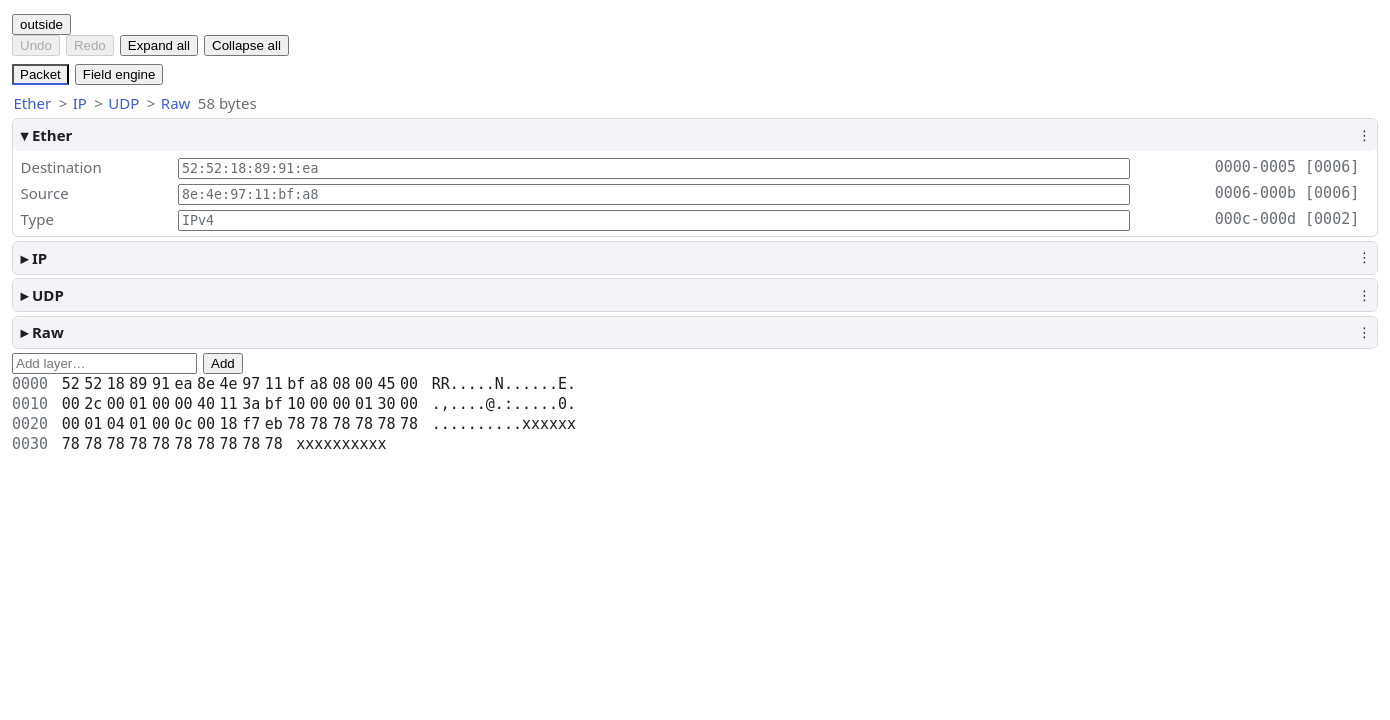
Test: PacketEditor › a rejected value stays in the field, red, with the message
This screenshot has width=1390, height=720.
Expected: the element with class "layer-list" is shown, [12,118,1378,349]
Click the button "▸ IP" at (24,258), box [13,242,1352,274]
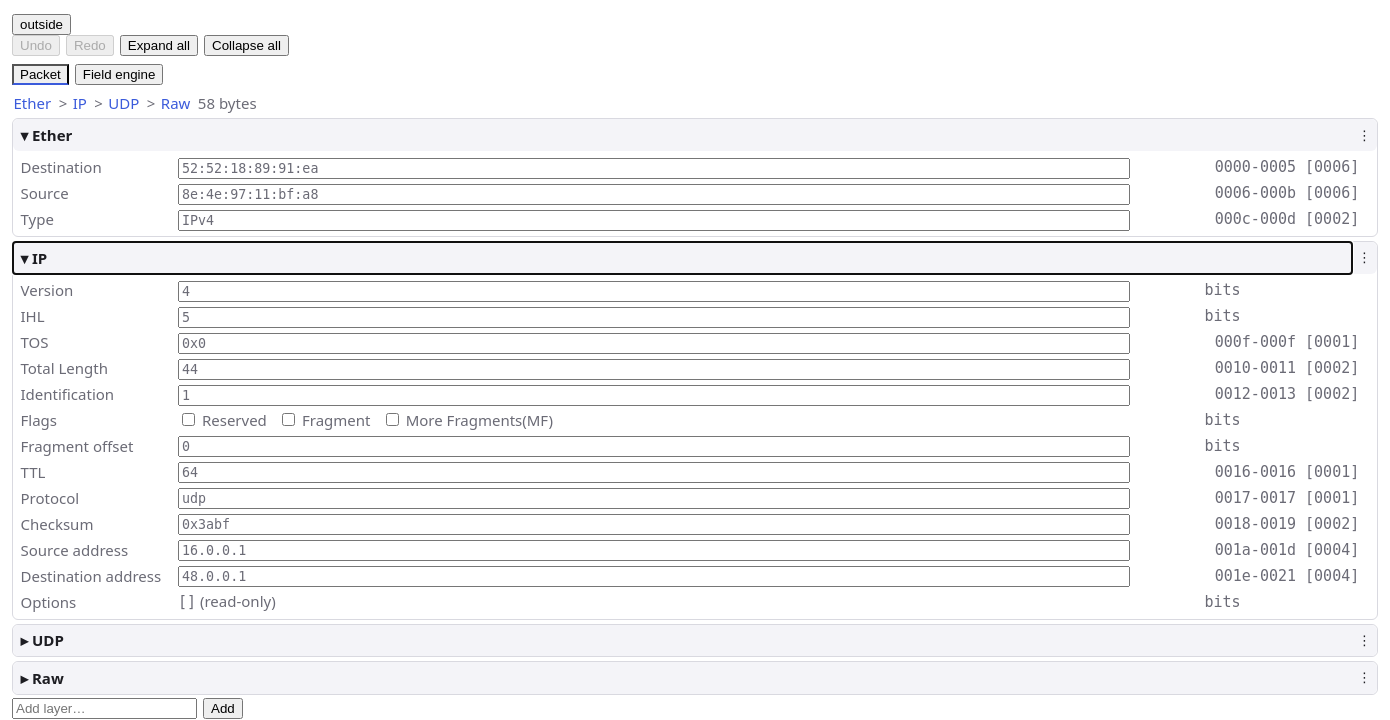
Replace the text in the field named "TTL" with "9" at (654,473), box [178,462,1130,483]
Then press Enter
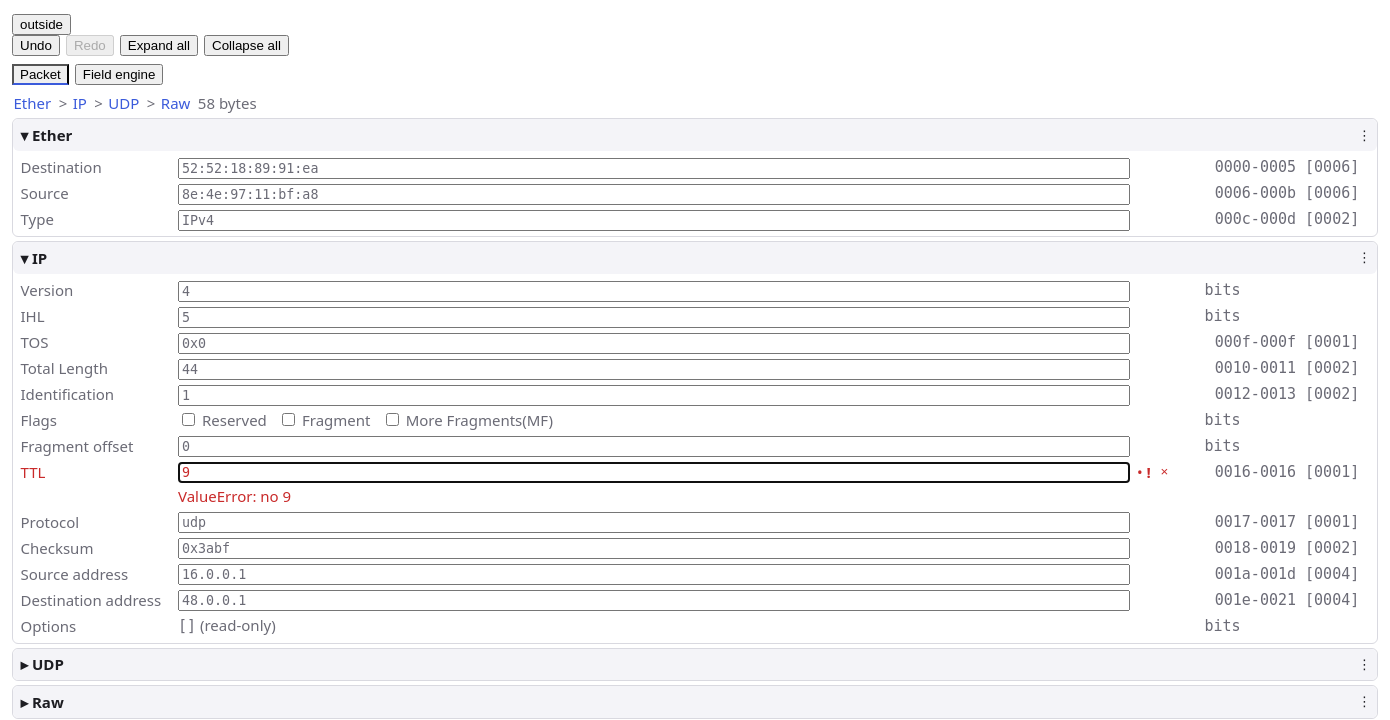
Expected: the button "▾ IP" is shown, [13,242,1352,274]
Result: the message reads "ValueError: no 9" at [178,486,291,506]
